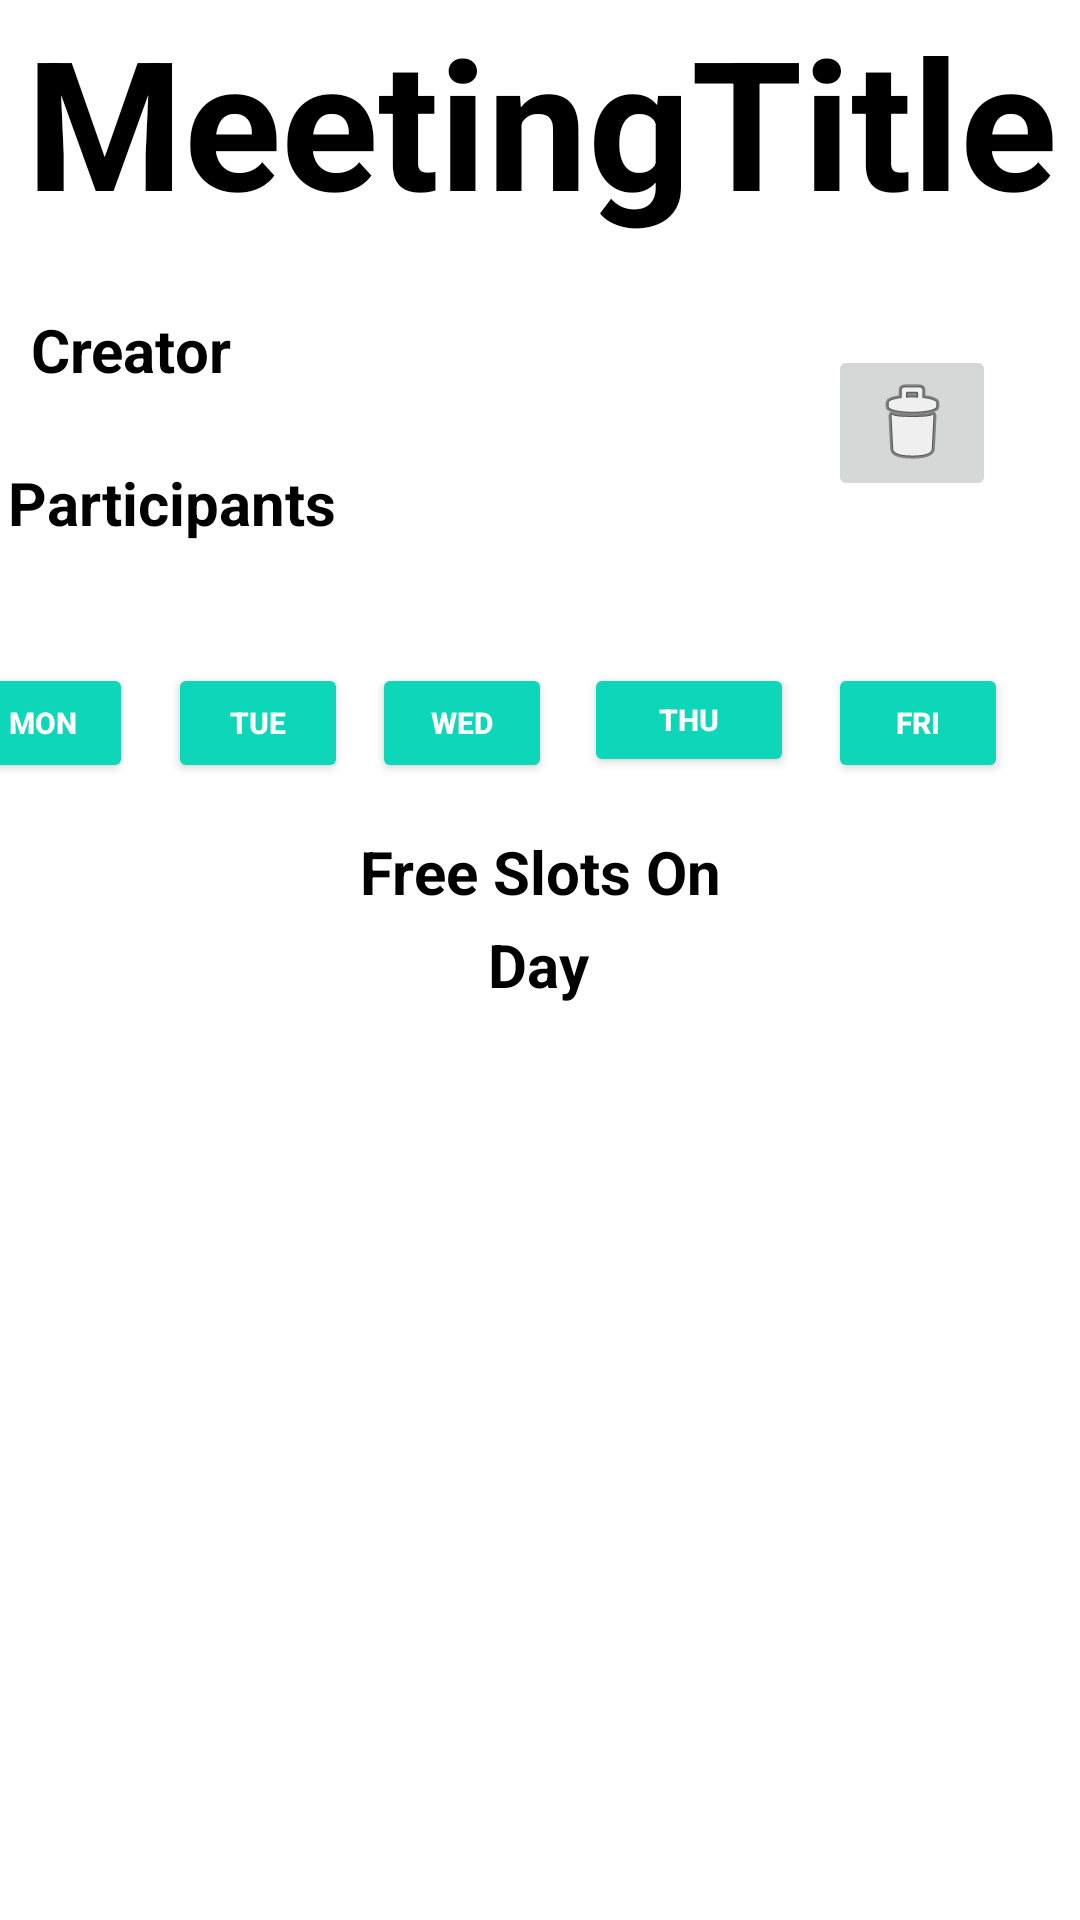

Where icons sit on this 1080 × 1920 app screen, as (x1, y1, x2, y2):
delete: (840, 363, 984, 483)
